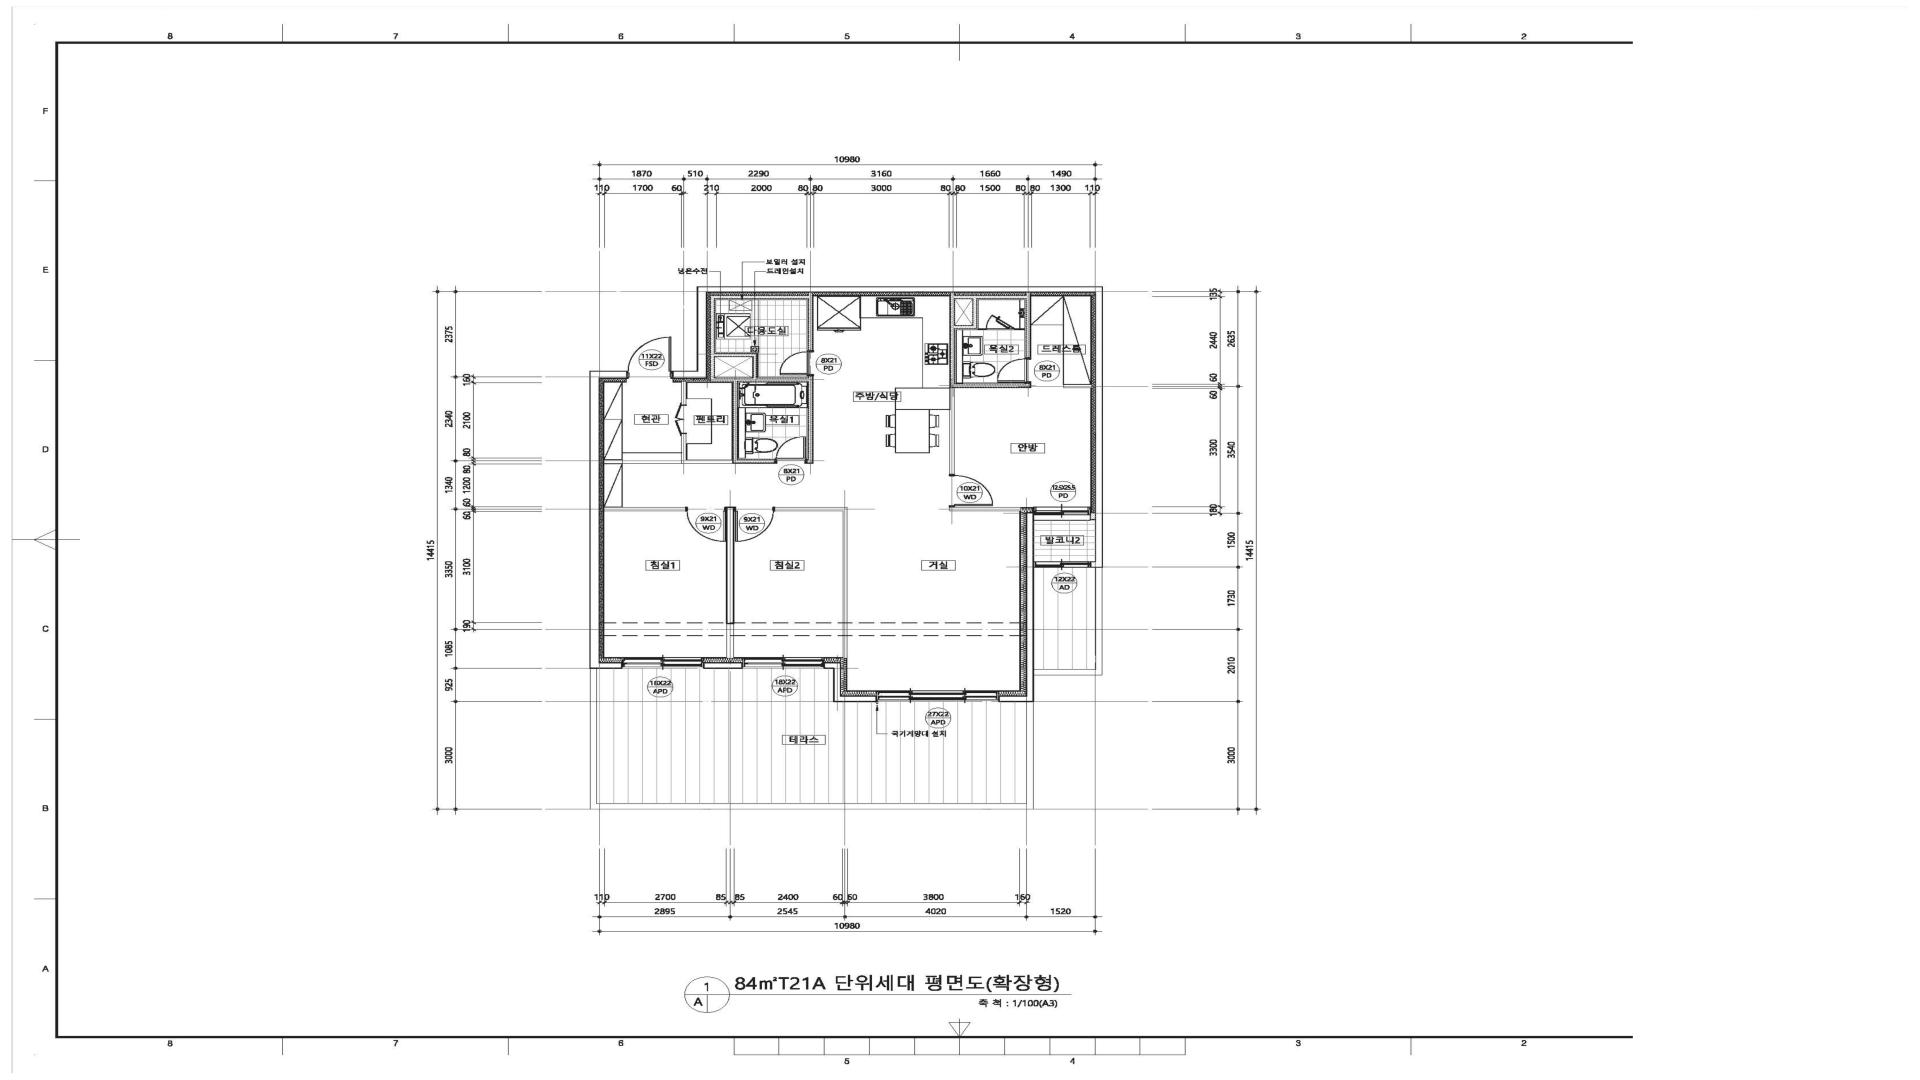door: (626, 336, 673, 378), (949, 475, 994, 508), (735, 506, 775, 542), (686, 508, 725, 542), (774, 436, 807, 464), (997, 357, 1031, 384), (779, 351, 814, 376), (674, 405, 687, 434)
wall: (673, 286, 1102, 568), (682, 293, 814, 464), (949, 293, 1031, 475), (589, 371, 628, 669), (775, 508, 848, 658), (998, 512, 1034, 703), (823, 662, 877, 703), (725, 506, 735, 658), (715, 357, 753, 377), (604, 508, 686, 512), (949, 508, 1021, 512), (703, 662, 742, 669), (680, 381, 687, 405), (1063, 384, 1092, 388), (1091, 512, 1095, 521)
window: (877, 691, 998, 703), (622, 657, 704, 669), (742, 657, 824, 669), (1034, 506, 1091, 521), (1034, 562, 1091, 567)
